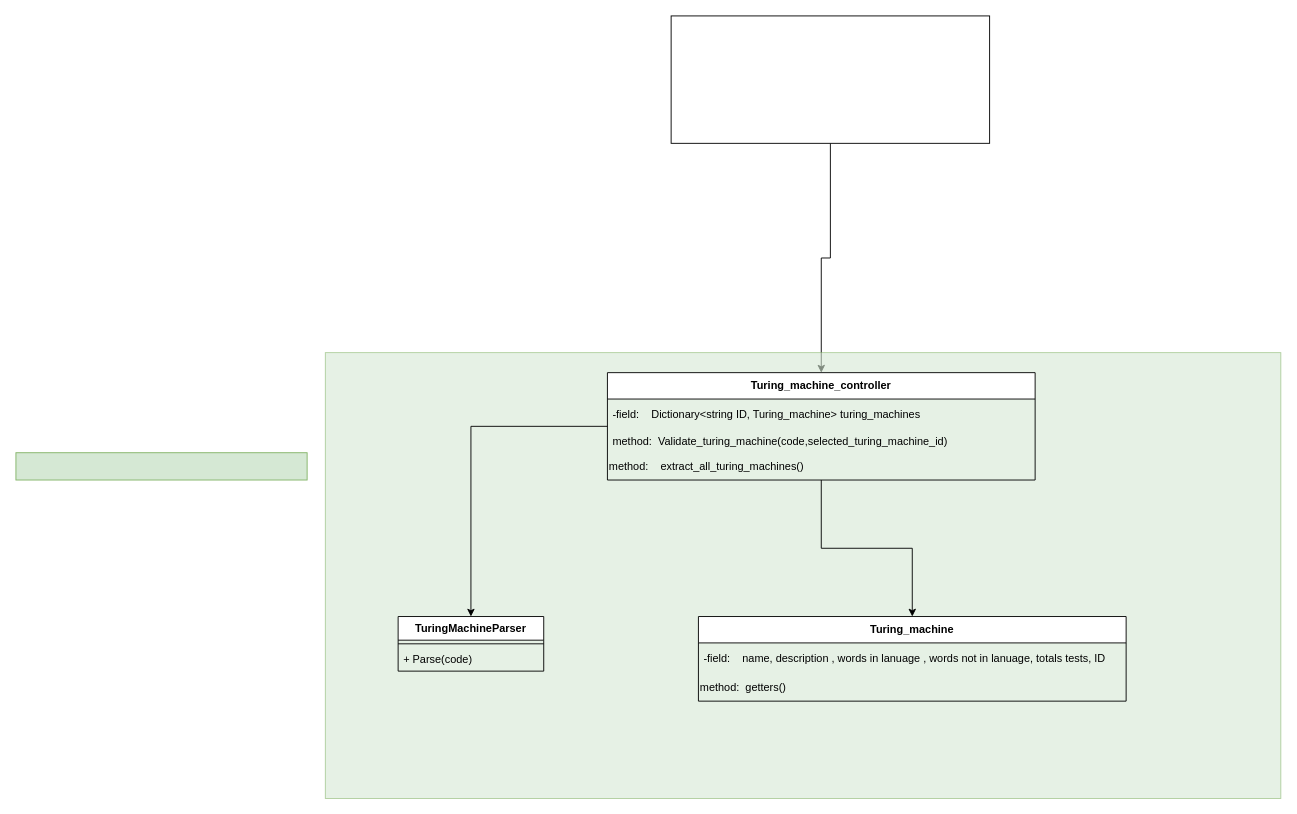
The diagram is 1297 pixels wide and 814 high, and some of its shapes have lost their labels. Here are the shapes that lost their labels. From the top down, the centre of each, then its label:
point (830, 79): main
point (161, 466): Turing_machine_Builder_Component
